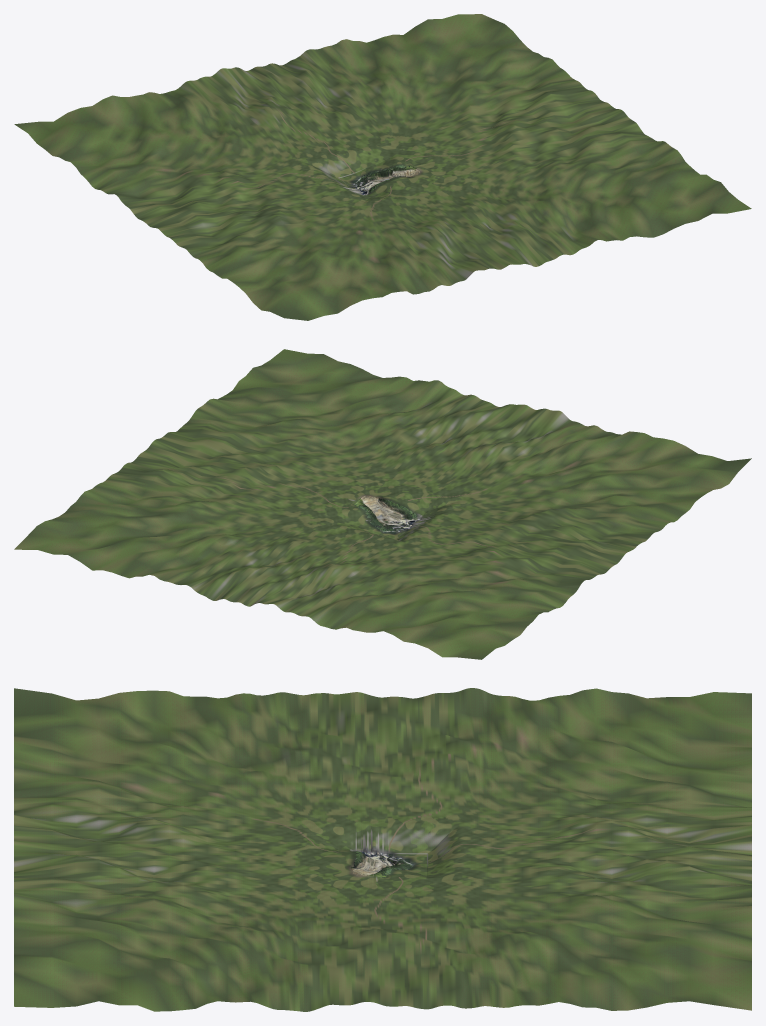
File: surround.glb
3 views of the same model, one above another, from view 1: azimuth 30°, elevation 25°; view 2: azimuth 150°, elevation 25°; view 3: azimuth 270°, elevation 25° (orthographic). The views are drawn at different scales.
Visible parts, largest first — view 1: surround; view 2: surround; view 3: surround.
Part boxes in pixels (x1,y1,x2,y2): surround: (14, 14, 751, 320); surround: (14, 349, 751, 659); surround: (14, 688, 751, 1011).
Bounding box in the file's own units: 6000 × 283 × 6000.
1 material, 1 textured.
